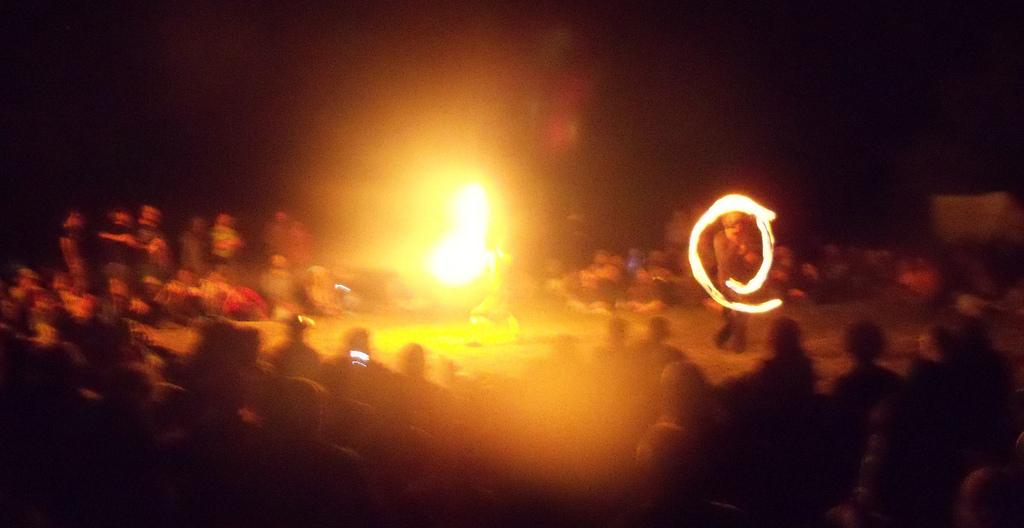fire: (421, 186, 511, 287), (704, 197, 777, 310)
